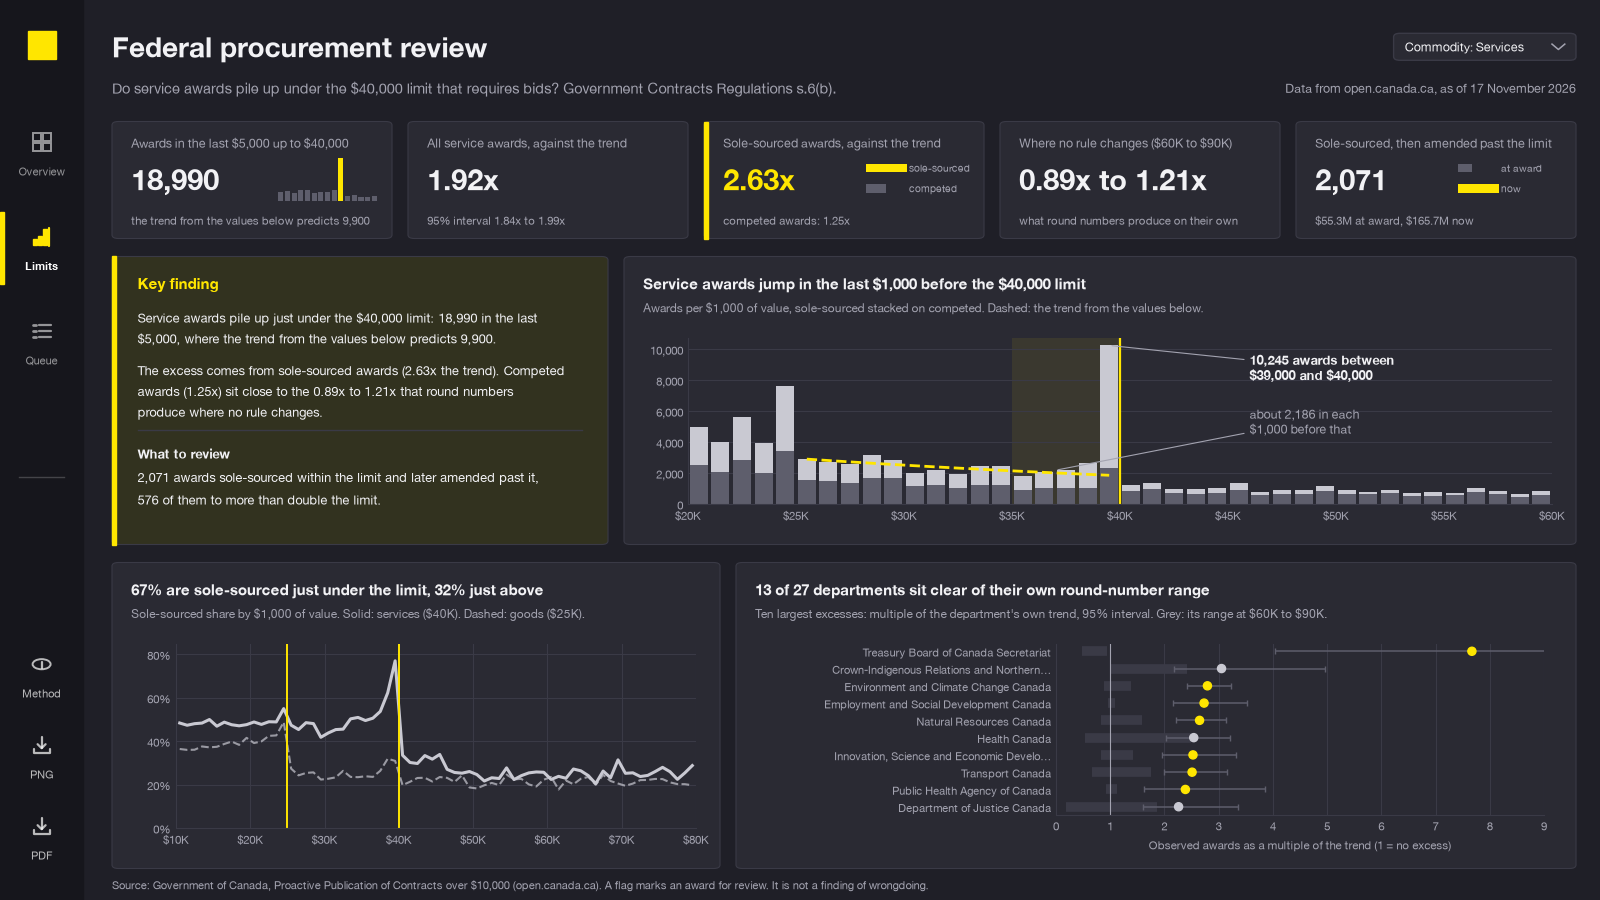

The dashboard page shown, as its layout file describes it:
{"tool":"tableau","page":{"name":"Limits","canvas":[1440,810],"ordinal":1},"visuals":[{"type":"blank","box":[0,0,75.6,810]},{"type":"parameter","param":"[Parameters].[p_commodity]","box":[1252.8,16.2,165.6,41.4]},{"type":"text","box":[93.6,19.8,630,41.4]},{"type":"blank","box":[25.2,27,25.2,25.2]},{"type":"text","box":[93.6,64.8,882,25.2]},{"type":"text","box":[1062,64.8,360,25.2]},{"type":"blank","box":[100.8,108.9,252,105.3]},{"type":"blank","box":[367.2,108.9,252,105.3]},{"type":"blank","box":[633.6,108.9,252,105.3]},{"type":"blank","box":[633.6,108.9,3.6,105.3]},{"type":"blank","box":[900,108.9,252,105.3]},{"type":"blank","box":[1166.4,108.9,252,105.3]},{"type":"worksheet","title":"Card: observed","mark":"Text","box":[115.2,116.1,232.2,92.7]},{"type":"worksheet","title":"Card: ratio","mark":"Text","box":[381.6,116.1,232.2,92.7]},{"type":"worksheet","title":"Card: sole-sourced ratio","mark":"Text","box":[648,116.1,232.2,92.7]},{"type":"worksheet","title":"Card: placebo","mark":"Text","box":[914.4,116.1,232.2,92.7]},{"type":"worksheet","title":"Card: amended past limit","mark":"Text","box":[1180.8,116.1,232.2,92.7]},{"type":"text","box":[3.6,126,72,27]},{"type":"blank","box":[0,190.8,3.6,64.8]},{"type":"text","box":[3.6,210.6,72,27]},{"type":"blank","box":[100.8,231.3,446.4,259.2]},{"type":"blank","box":[100.8,231.3,3.6,259.2]},{"type":"blank","box":[561.6,231.3,856.8,259.2]},{"type":"worksheet","title":"Awards per $1,000","mark":"Automatic","rows":["trend"],"cols":["bin_start"],"box":[576,242.1,828,237.6]},{"type":"text","box":[122.4,245.7,406.8,234]},{"type":"text","box":[3.6,295.2,72,27]},{"type":"blank","box":[100.8,506.7,547.2,270]},{"type":"blank","box":[662.4,506.7,756,270]},{"type":"worksheet","title":"Sole-sourced share by value","mark":"Line","cols":["bin_start"],"box":[115.2,517.5,518.4,248.4]},{"type":"worksheet","title":"Departments against their own range","mark":"Automatic","rows":["department"],"cols":["placebo_lo"],"box":[676.8,517.5,727.2,248.4]},{"type":"text","box":[93.6,784.8,1260,21.6]}]}

Visuals, with their boxes on the page's 1440x810 design canvas (x1, y1, x2, y2). These are canvas units, not pixel positions in the 1600x900 screenshot, which may show the page scaled, cropped or inside an application window:
blank: bbox=[0, 0, 76, 810]
parameter: bbox=[1253, 16, 1418, 58]
text: bbox=[94, 20, 724, 61]
blank: bbox=[25, 27, 50, 52]
text: bbox=[94, 65, 976, 90]
text: bbox=[1062, 65, 1422, 90]
blank: bbox=[101, 109, 353, 214]
blank: bbox=[367, 109, 619, 214]
blank: bbox=[634, 109, 886, 214]
blank: bbox=[634, 109, 637, 214]
blank: bbox=[900, 109, 1152, 214]
blank: bbox=[1166, 109, 1418, 214]
"Card: observed" worksheet (Text marks): bbox=[115, 116, 347, 209]
"Card: ratio" worksheet (Text marks): bbox=[382, 116, 614, 209]
"Card: sole-sourced ratio" worksheet (Text marks): bbox=[648, 116, 880, 209]
"Card: placebo" worksheet (Text marks): bbox=[914, 116, 1147, 209]
"Card: amended past limit" worksheet (Text marks): bbox=[1181, 116, 1413, 209]
text: bbox=[4, 126, 76, 153]
blank: bbox=[0, 191, 4, 256]
text: bbox=[4, 211, 76, 238]
blank: bbox=[101, 231, 547, 490]
blank: bbox=[101, 231, 104, 490]
blank: bbox=[562, 231, 1418, 490]
"Awards per $1,000" worksheet: bbox=[576, 242, 1404, 480]
text: bbox=[122, 246, 529, 480]
text: bbox=[4, 295, 76, 322]
blank: bbox=[101, 507, 648, 777]
blank: bbox=[662, 507, 1418, 777]
"Sole-sourced share by value" worksheet (Line marks): bbox=[115, 518, 634, 766]
"Departments against their own range" worksheet: bbox=[677, 518, 1404, 766]
text: bbox=[94, 785, 1354, 806]
